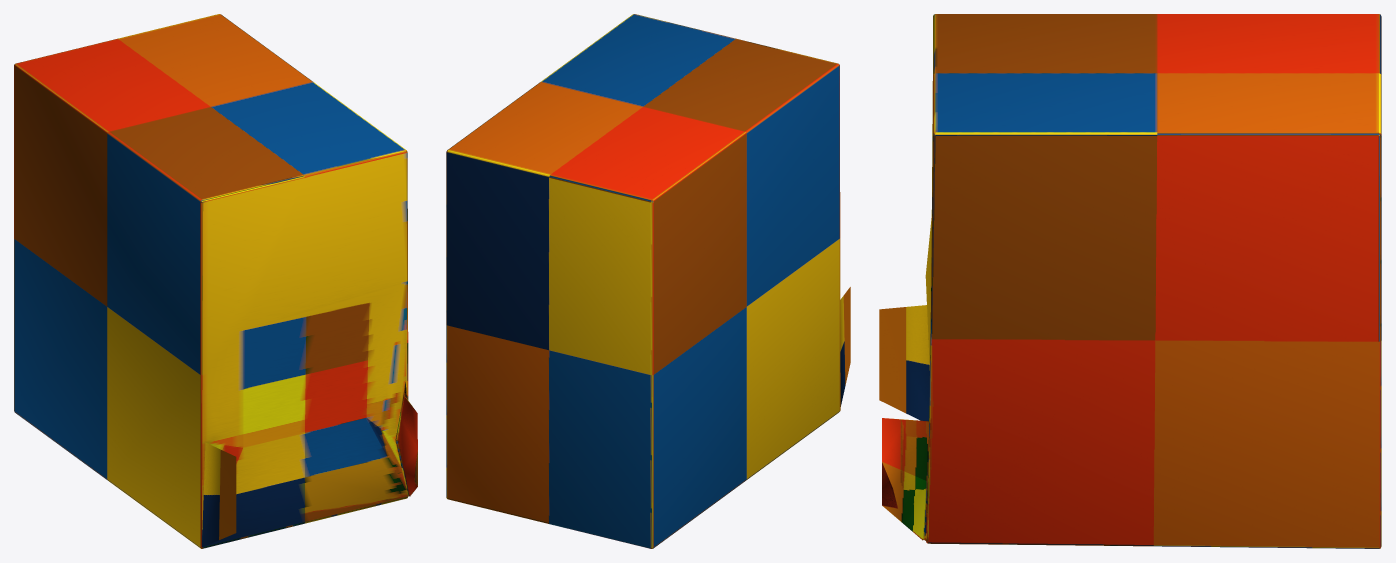
The model's file is garage-folding-chair.glb.
3 renders of one model, left to right at view 1: azimuth 30°, elevation 25°; view 2: azimuth 150°, elevation 25°; view 3: azimuth 270°, elevation 25°, orthographic. The views are drawn at different scales.
Parts seen in each view (by area): view 1: garage-folding-chair_export; view 2: garage-folding-chair_export; view 3: garage-folding-chair_export.
Boxes of the visible parts, <box> form: garage-folding-chair_export: <box>14,14,417,548</box>; garage-folding-chair_export: <box>446,14,850,548</box>; garage-folding-chair_export: <box>879,14,1381,548</box>.
Size of the model in its own units: 0.3699 by 0.5954 by 0.6507.
Materials: 1 (1 with a texture image).
